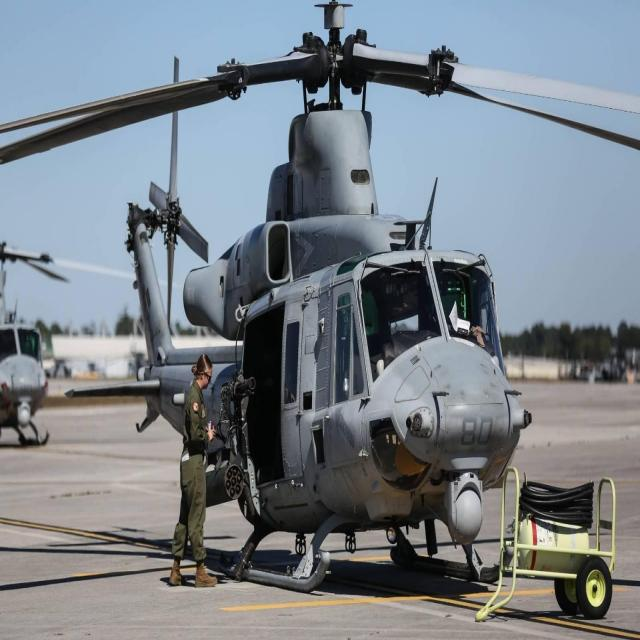MIL_HELO: (2, 0, 640, 592)
